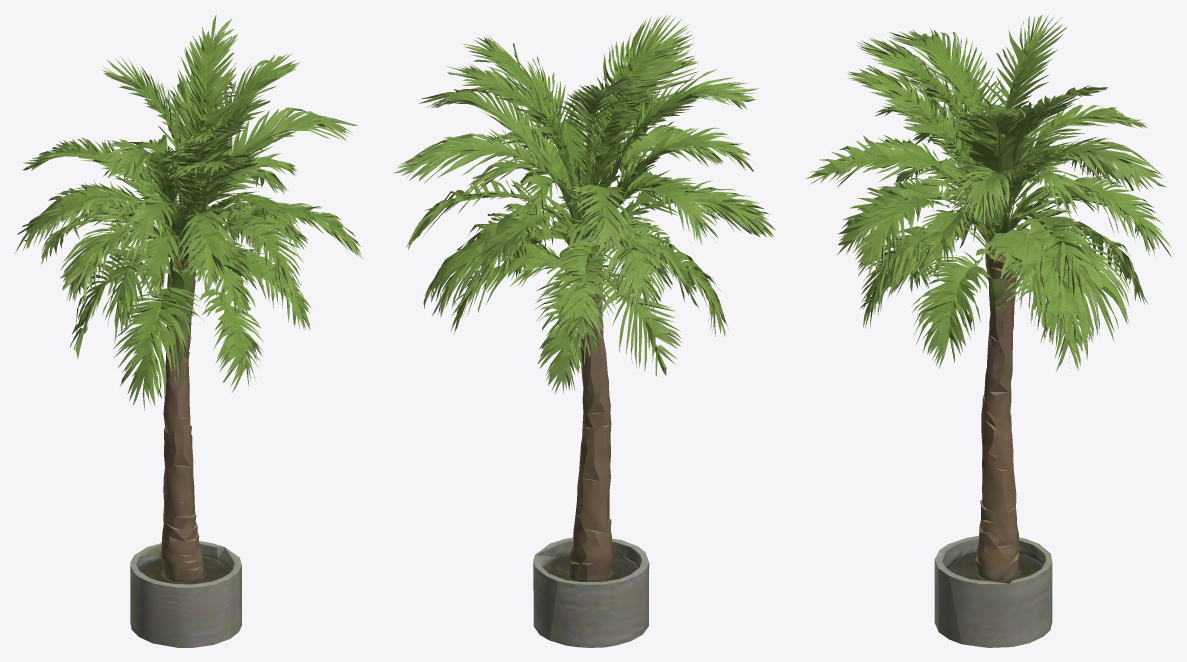
File: palma_finta.glb
3 views of the same model, side by side, from view 1: azimuth 30°, elevation 25°; view 2: azimuth 150°, elevation 25°; view 3: azimuth 270°, elevation 25° (orthographic). The views are drawn at different scales.
Visible parts, largest first — view 1: Mesh_0; view 2: Mesh_0; view 3: Mesh_0.
Boxes of the visible parts, x1,y1,x2,y2 form: Mesh_0: (15,14,363,647); Mesh_0: (393,15,775,647); Mesh_0: (806,15,1171,647).
Size of the model in its own units: 2.4 by 4 by 2.28.
Materials: 1 (1 with a texture image).
